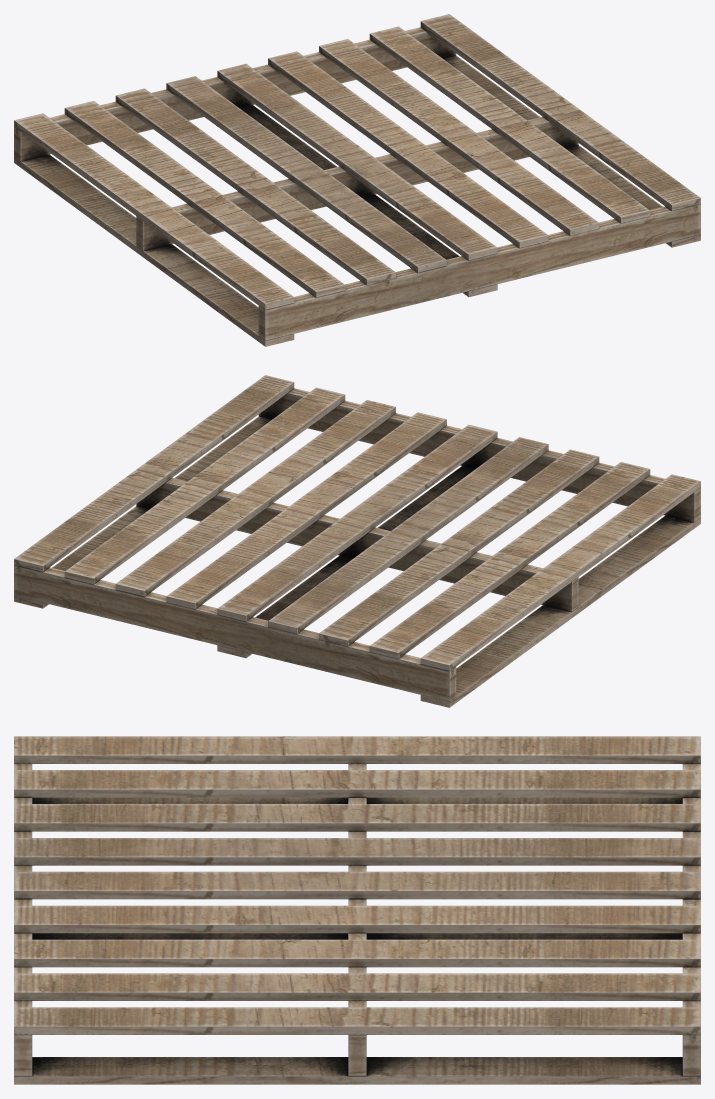
The model's file is pallet.glb.
The picture shows the model from 3 angles, top to bottom: view 1: azimuth 30°, elevation 25°; view 2: azimuth 150°, elevation 25°; view 3: azimuth 270°, elevation 25°; orthographic projection. The views are drawn at different scales.
Parts seen in each view (by area): view 1: Flat_Crate; view 2: Flat_Crate; view 3: Flat_Crate.
Part boxes in pixels (x1,y1,x2,y2): Flat_Crate: [14, 14, 700, 346]; Flat_Crate: [14, 375, 700, 707]; Flat_Crate: [14, 736, 700, 1084].
Bounding box in the file's own units: 121 × 11.26 × 121.
1 material, 1 textured.
